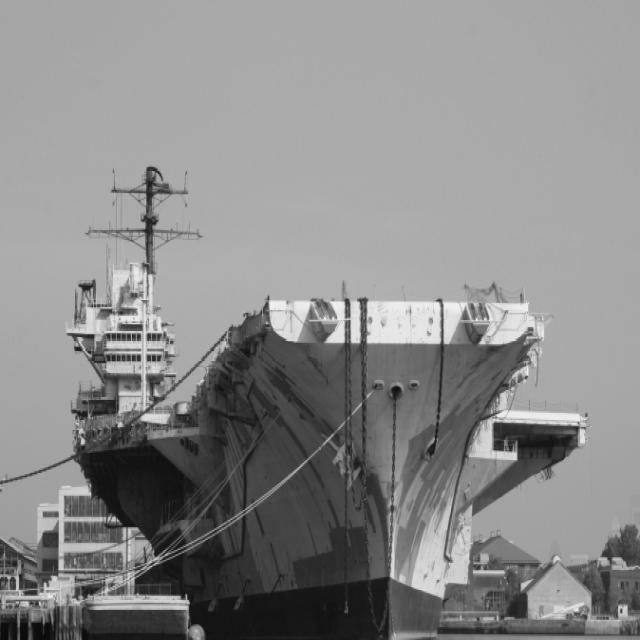Portanaves: (62, 152, 589, 640)
